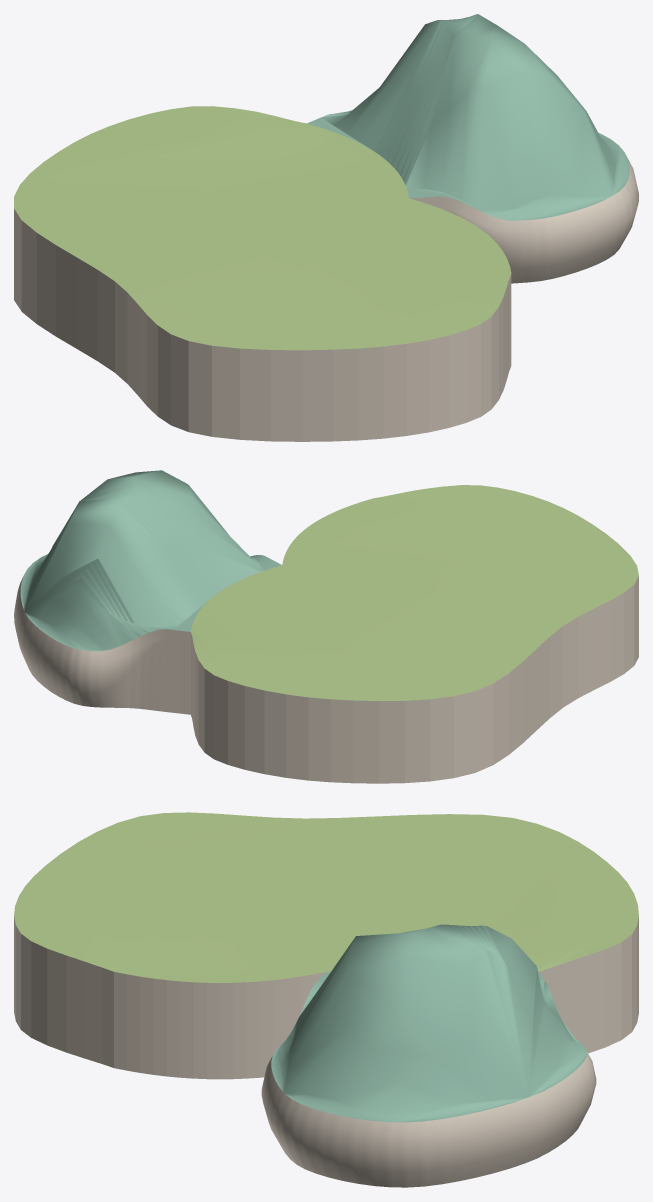
The model's file is parallel-source.glb.
3 renders of one model, top to bottom at view 1: azimuth 30°, elevation 25°; view 2: azimuth 150°, elevation 25°; view 3: azimuth 270°, elevation 25°, orthographic. The views are drawn at different scales.
Visible parts, largest first — view 1: baseline/top, baseline/rounded-coast, parallel-south/top, parallel-south/rounded-coast; view 2: baseline/top, baseline/rounded-coast, parallel-south/top, parallel-south/rounded-coast; view 3: baseline/top, parallel-south/top, parallel-south/rounded-coast, baseline/rounded-coast, baseline/bank-north-seam.
Part boxes in pixels (x1,y1,x2,y2): baseline/top: (14, 106, 511, 350); baseline/rounded-coast: (14, 209, 511, 441); parallel-south/top: (307, 14, 629, 220); parallel-south/rounded-coast: (410, 157, 638, 283); baseline/top: (191, 485, 638, 700); baseline/rounded-coast: (191, 576, 638, 783); parallel-south/top: (20, 470, 281, 651); parallel-south/rounded-coast: (14, 576, 190, 714); baseline/top: (14, 812, 638, 982); parallel-south/top: (271, 924, 586, 1122); parallel-south/rounded-coast: (261, 1052, 596, 1187); baseline/rounded-coast: (14, 916, 638, 1067); baseline/bank-north-seam: (114, 972, 325, 1079).
Size of the model in its own units: 6.38 by 2.06 by 5.88.
